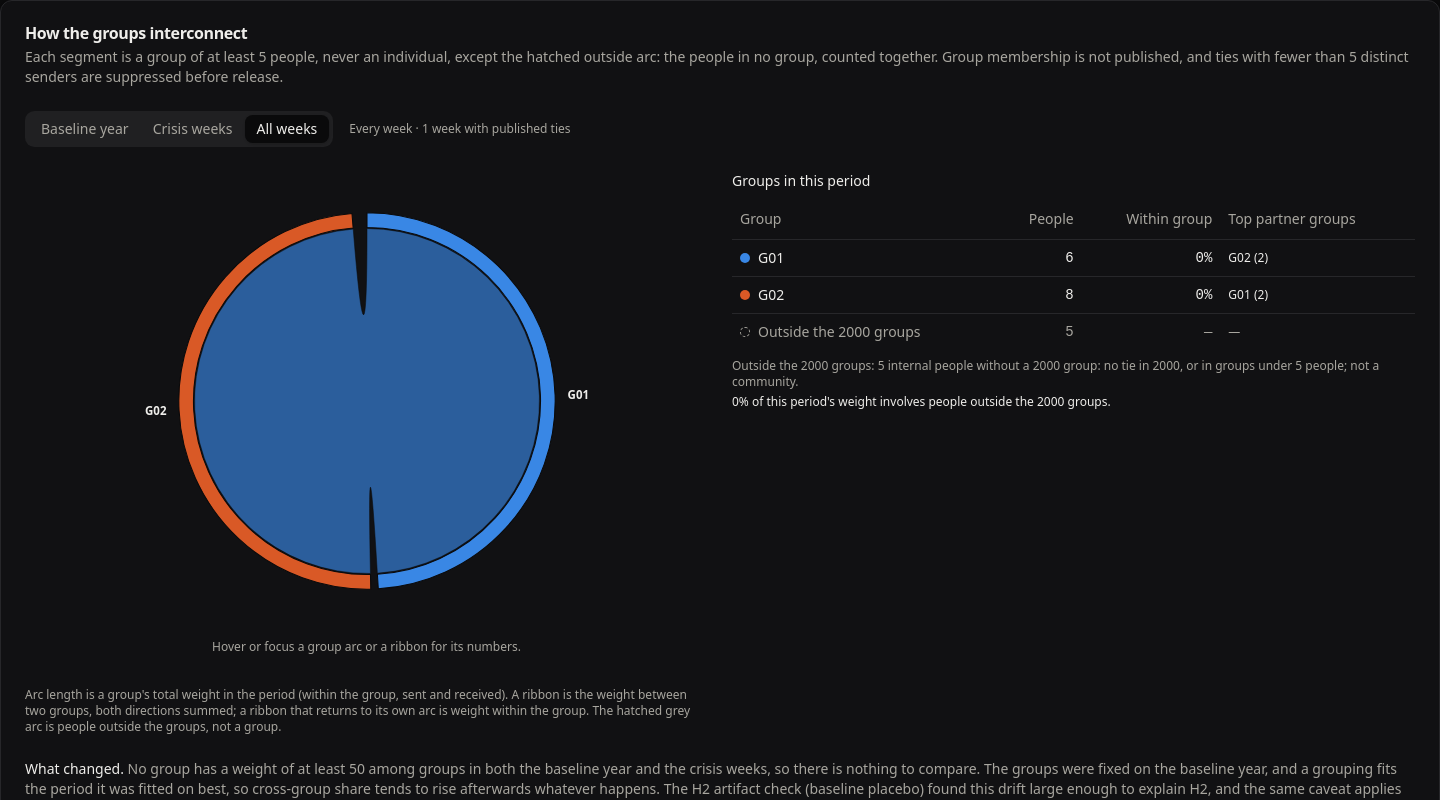
Test: ClusterView › says when there is nothing to compare or draw
Expected: the element with test id "what-changed" shows "there is nothing to compare", x1=128 y1=759 x2=984 y2=778
Click the tab "Crisis weeks": (193, 129) x1=141 y1=115 x2=244 y2=143
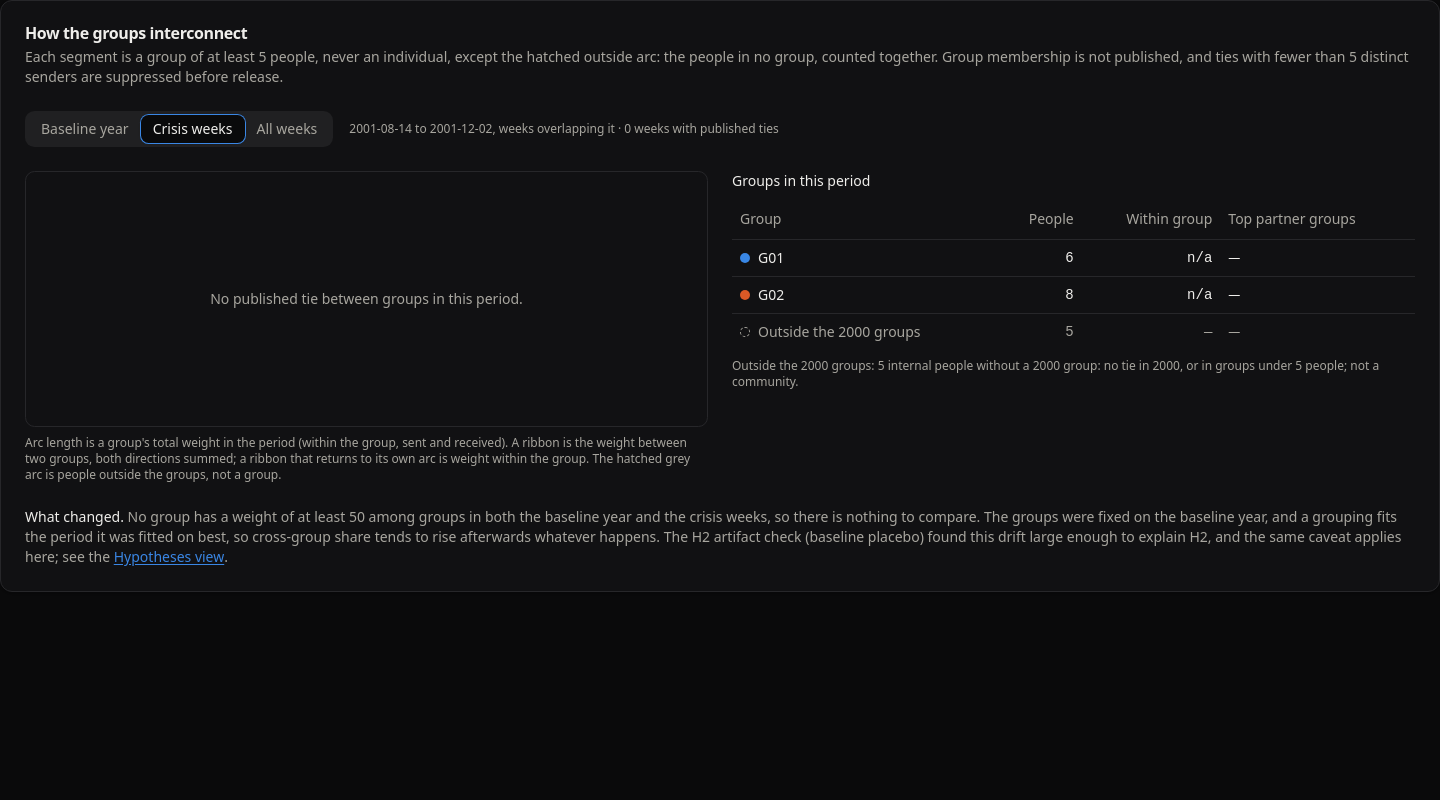
Now the text "No published tie between groups in this period." is shown, box x1=25 y1=171 x2=708 y2=427
